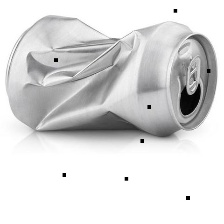can: (4, 6, 221, 146)
